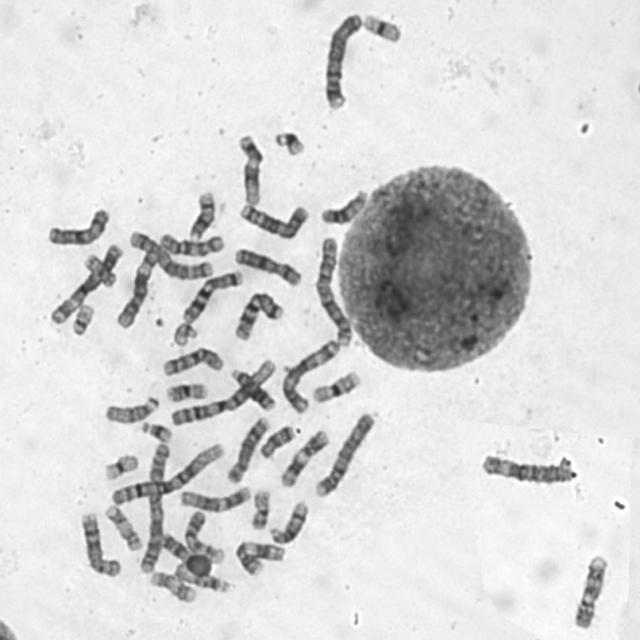A1: (106, 437, 226, 507), (167, 355, 278, 428)
A2: (135, 439, 172, 576), (312, 232, 354, 348)
A3: (46, 238, 125, 327), (278, 334, 341, 414)
B4: (310, 408, 376, 499), (319, 7, 365, 112)
B5: (126, 226, 214, 280), (235, 198, 311, 240)
C10: (158, 343, 225, 378), (155, 229, 225, 258)
C11: (276, 424, 331, 490), (231, 536, 288, 578)
C12: (175, 481, 252, 513), (234, 129, 265, 207)
C6: (112, 246, 160, 330), (477, 449, 578, 486)
C7: (177, 266, 246, 324), (230, 287, 286, 343)
C8: (222, 412, 272, 485), (76, 508, 123, 579)
C9: (569, 550, 611, 630), (180, 506, 227, 565)
D13: (226, 363, 278, 413), (317, 185, 370, 226)
D14: (266, 497, 310, 547), (184, 187, 218, 241)
D15: (170, 561, 231, 595), (101, 391, 160, 426)
E16: (308, 366, 363, 404), (162, 378, 210, 404)
E17: (101, 501, 144, 554), (146, 567, 198, 605)
E18: (256, 421, 297, 460), (157, 531, 199, 567)
F19: (359, 8, 403, 44), (99, 449, 141, 483)
F20: (80, 250, 118, 289), (247, 484, 272, 532)
G21: (270, 126, 307, 157), (136, 418, 174, 443)
G22: (68, 299, 96, 337), (169, 319, 199, 347)
X: (230, 243, 304, 289), (43, 204, 112, 248)
